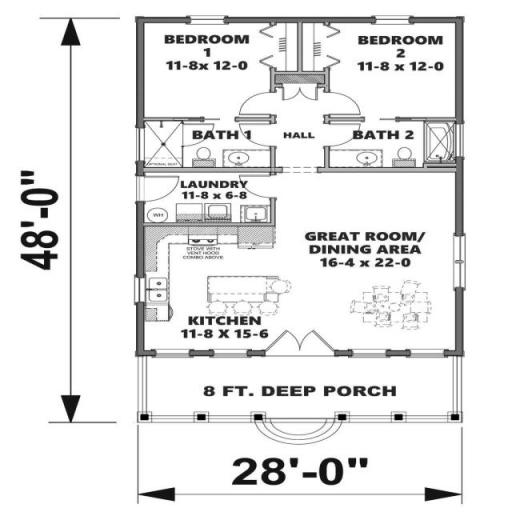bathroom: (144, 122, 334, 169), (329, 119, 466, 173)
bedroom: (293, 26, 482, 114), (137, 18, 282, 113)
hall: (293, 181, 448, 359)
kitchen: (140, 243, 286, 343)
laundary: (136, 180, 293, 234)
porch: (146, 354, 459, 428)
